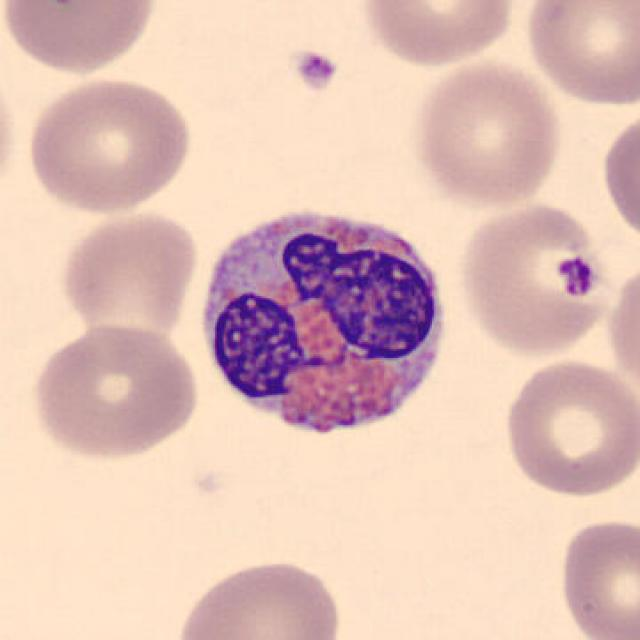Eosinophil: (188, 192, 461, 466)
Platelets: (290, 44, 340, 94), (556, 254, 604, 301)
RBC: (454, 198, 620, 360), (25, 319, 204, 464), (22, 72, 195, 217), (407, 56, 565, 212), (499, 354, 636, 501), (55, 205, 201, 342), (170, 553, 348, 640), (519, 0, 638, 109), (0, 0, 162, 78), (359, 0, 521, 71), (553, 515, 638, 640), (598, 106, 638, 250), (604, 255, 640, 406), (0, 56, 21, 213)
